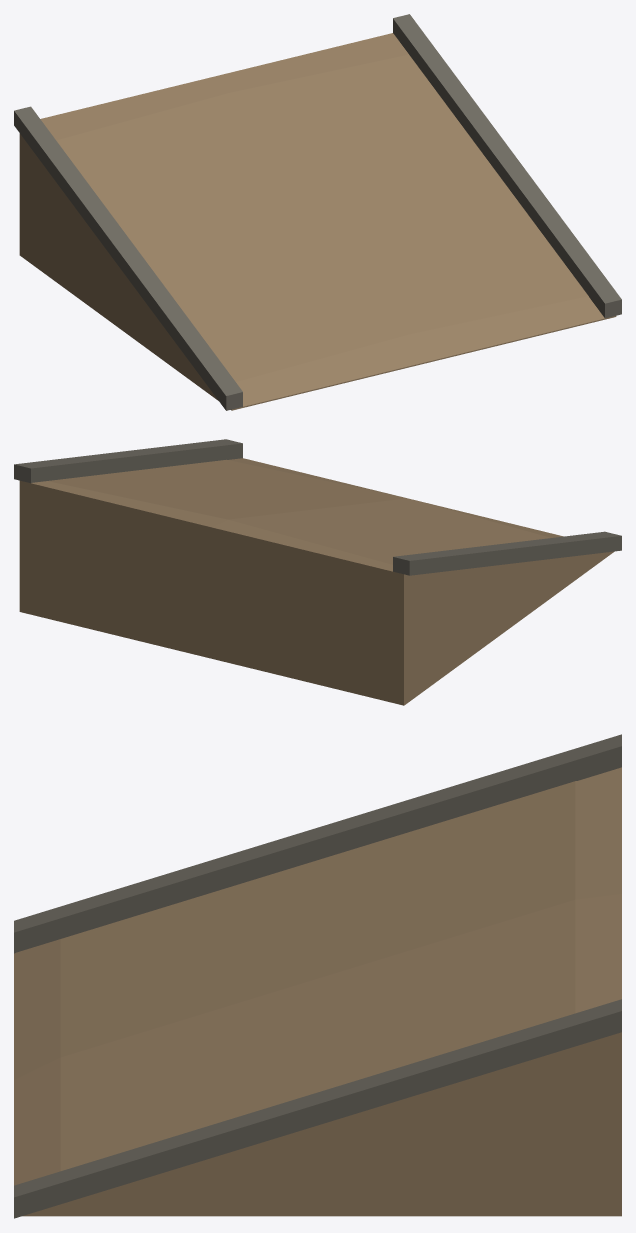
Rendered from arched_ramp_segment.glb.
3 renders of one model, top to bottom at view 1: azimuth 30°, elevation 25°; view 2: azimuth 150°, elevation 25°; view 3: azimuth 270°, elevation 25°, orthographic. The views are drawn at different scales.
Parts seen in each view (by area): view 1: arched_ramp_segment; view 2: arched_ramp_segment; view 3: arched_ramp_segment.
Part boxes in pixels (bbox=[...]): arched_ramp_segment: bbox=[14, 14, 621, 410]; arched_ramp_segment: bbox=[14, 439, 621, 705]; arched_ramp_segment: bbox=[14, 734, 621, 1218].
Bounding box in the file's own units: 7 × 2.47 × 6.5.
